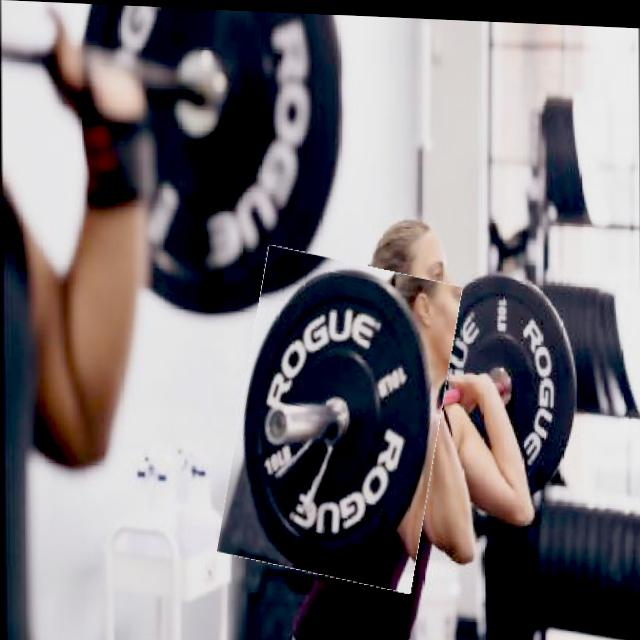barbell: (229, 249, 452, 585)
